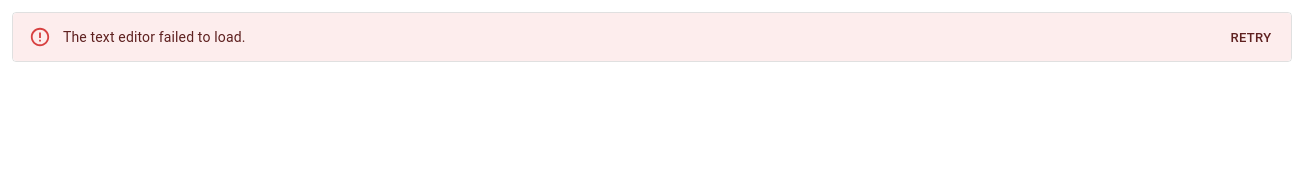
RawEditor › shows an Alert instead of a spinner when the editor fails to start, and Retry recovers
Expected: the text "The text editor failed to load." is shown, [63,29,246,45]
Click the button "Retry": x=1251, y=38 [1219,23,1283,54]
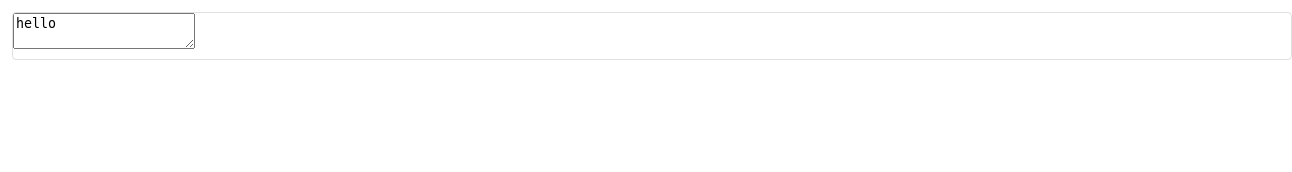
Expected: the text box showing "hello" is shown, [13,13,195,49]
Expected: the text "The text editor failed to load." is gone
